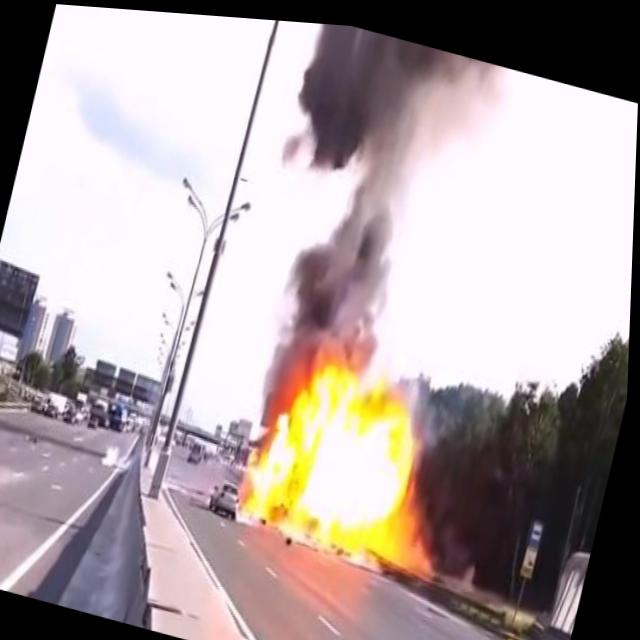fire: (234, 336, 482, 582), (506, 626, 524, 640)
